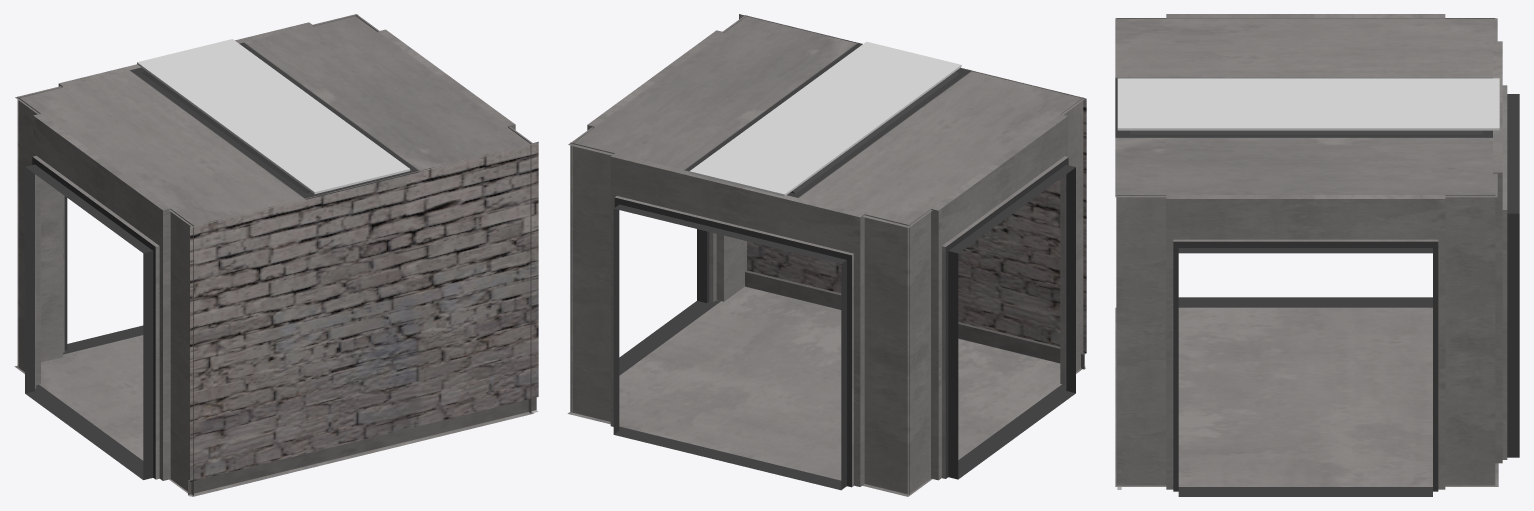
Rendered from hallway_corner124.fbx.
3 views of the same model, side by side, from view 1: azimuth 30°, elevation 25°; view 2: azimuth 150°, elevation 25°; view 3: azimuth 270°, elevation 25° (orthographic). The views are drawn at different scales.
Visible parts, largest first — view 1: wall005, ciling003, wall_door_frame013, light004, floor004, wall_door_frame012, wall_door_frame011; view 2: wall_door_frame012, ciling003, floor004, wall_door_frame013, wall005, light004, wall_door_frame011; view 3: wall_door_frame011, ciling003, floor004, light004, wall_door_frame012, wall_door_frame013.
Part boxes in pixels (<box>): wall005: <box>188,141,538,496</box>; ciling003: <box>15,14,533,227</box>; wall_door_frame013: <box>17,97,193,495</box>; light004: <box>137,39,410,194</box>; floor004: <box>14,335,533,496</box>; wall_door_frame012: <box>18,14,358,367</box>; wall_door_frame011: <box>355,14,531,413</box>; wall_door_frame012: <box>570,142,909,494</box>; ciling003: <box>568,15,1085,227</box>; floor004: <box>567,286,1085,496</box>; wall_door_frame013: <box>907,97,1083,494</box>; wall005: <box>739,14,1086,369</box>; light004: <box>689,41,961,196</box>; wall_door_frame011: <box>571,15,747,412</box>; wall_door_frame011: <box>1116,195,1495,496</box>; ciling003: <box>1115,18,1497,197</box>; floor004: <box>1115,307,1498,486</box>; light004: <box>1117,78,1499,130</box>; wall_door_frame012: <box>1493,41,1519,463</box>; wall_door_frame013: <box>1116,14,1495,307</box>.
Size of the model in its own units: 35.35 by 24.32 by 30.29.
